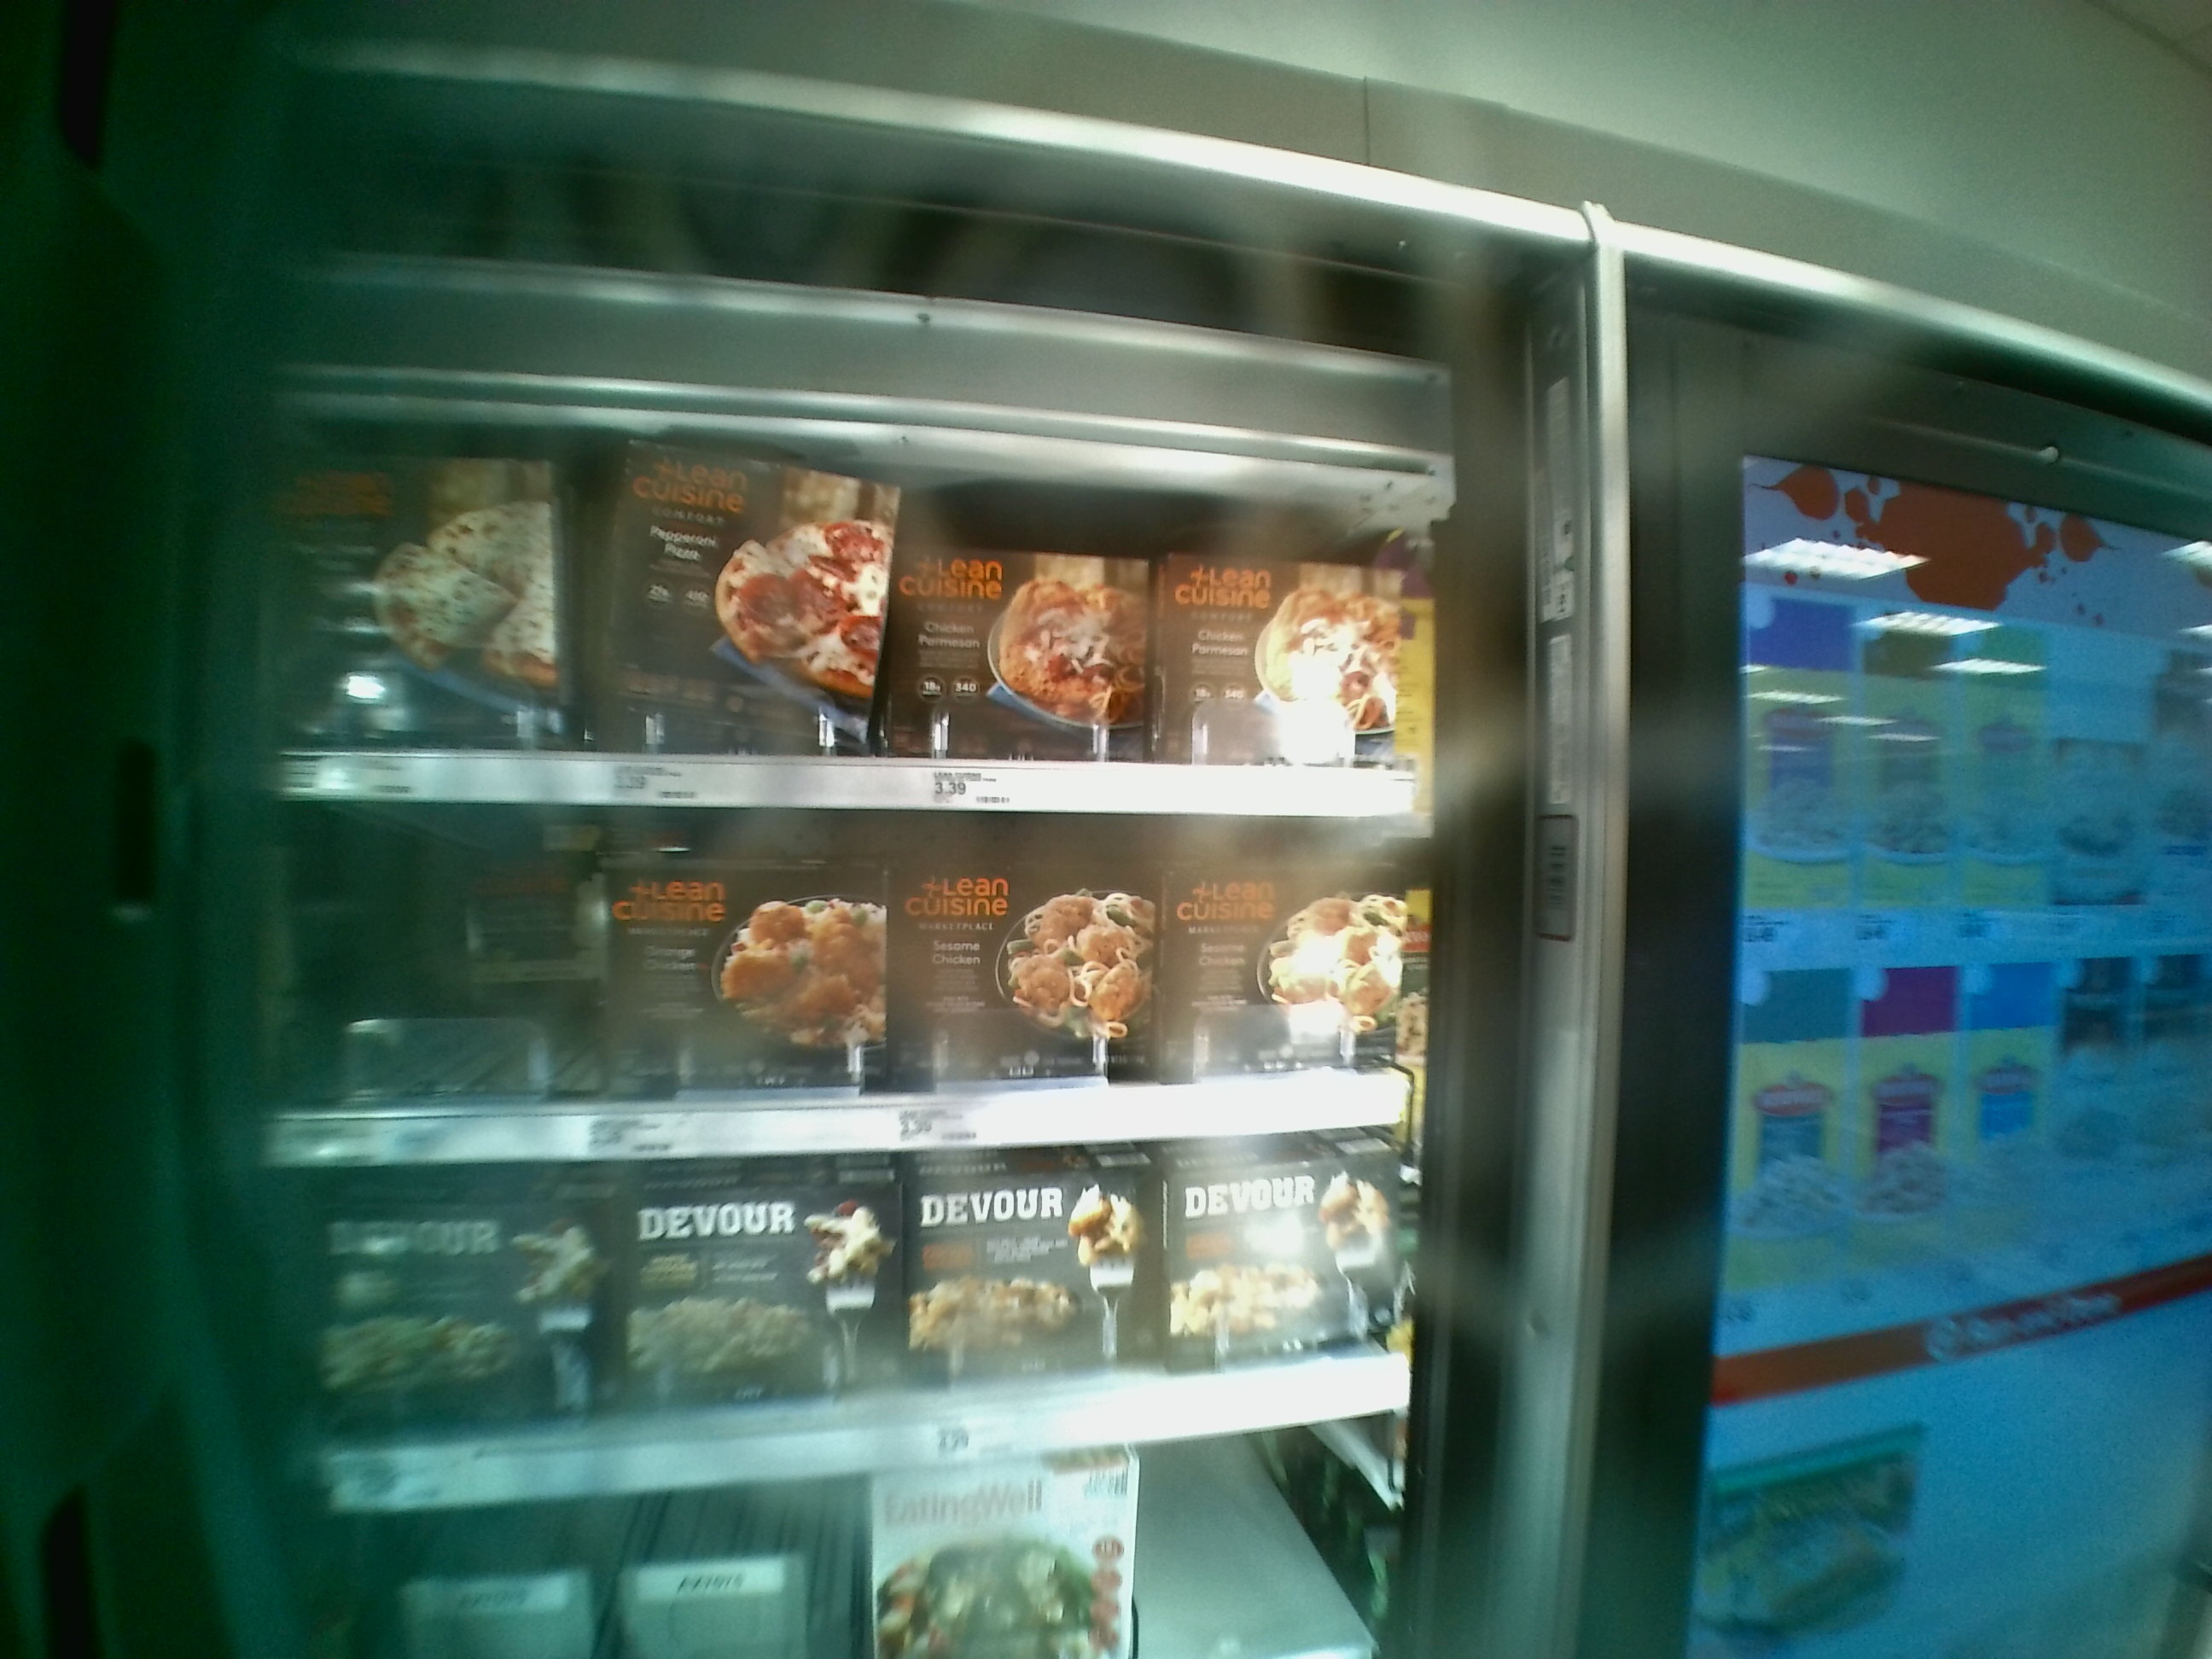shelf: (286, 373, 1428, 814), (256, 796, 1416, 1161)
